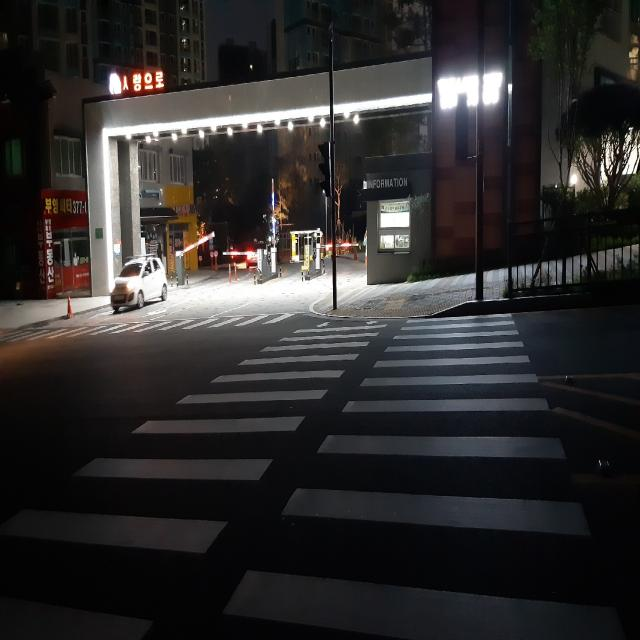횡단보도: (0, 313, 623, 640)
